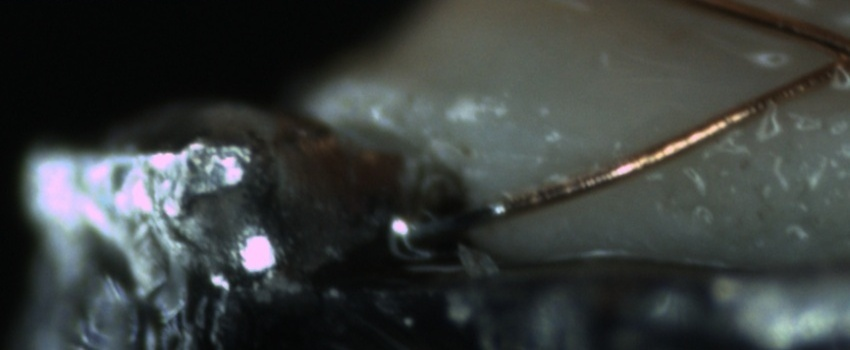CL: (801, 24, 850, 92)
TS: (392, 197, 510, 243)
